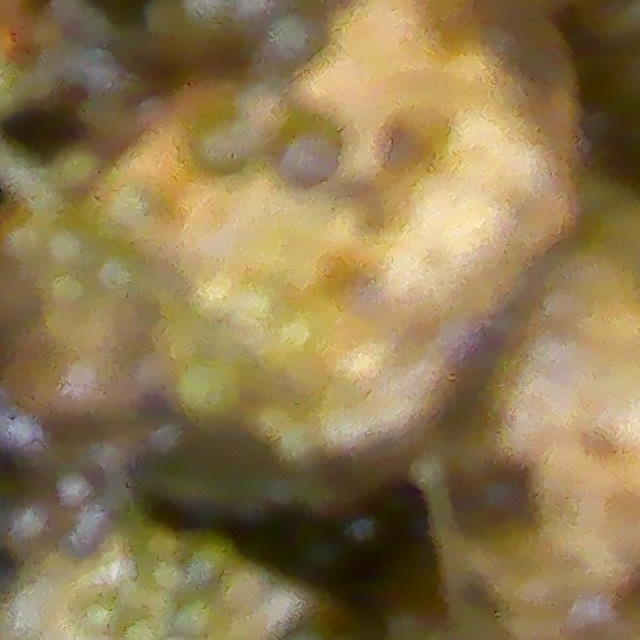SeaGrape: (264, 109, 337, 186)
